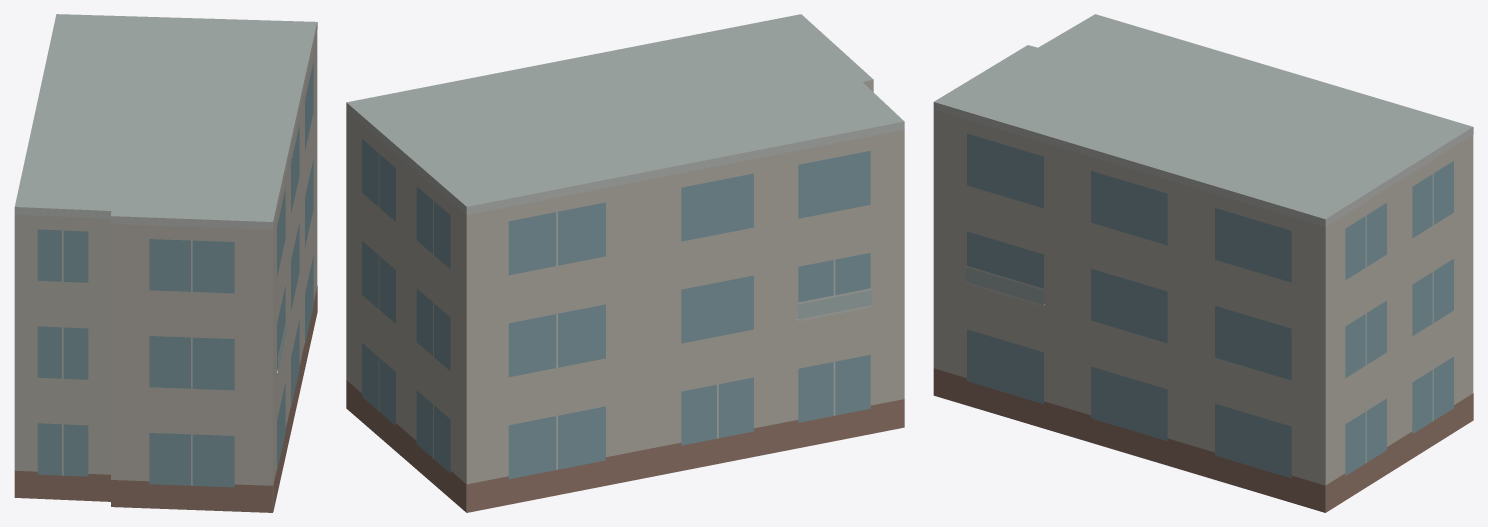
The model's file is survey-upis-32644012.glb.
3 views of the same model, side by side, from view 1: azimuth 30°, elevation 25°; view 2: azimuth 150°, elevation 25°; view 3: azimuth 270°, elevation 25° (orthographic). The views are drawn at different scales.
Visible parts, largest first — view 1: survey-upis-32644012.tmp; view 2: survey-upis-32644012.tmp; view 3: survey-upis-32644012.tmp.
Boxes of the visible parts, box(x1,y1,x2,y2) form: survey-upis-32644012.tmp: box(14, 14, 317, 512); survey-upis-32644012.tmp: box(346, 14, 904, 512); survey-upis-32644012.tmp: box(933, 14, 1473, 512).
Bounding box in the file's own units: 13.73 × 9.15 × 15.25.
